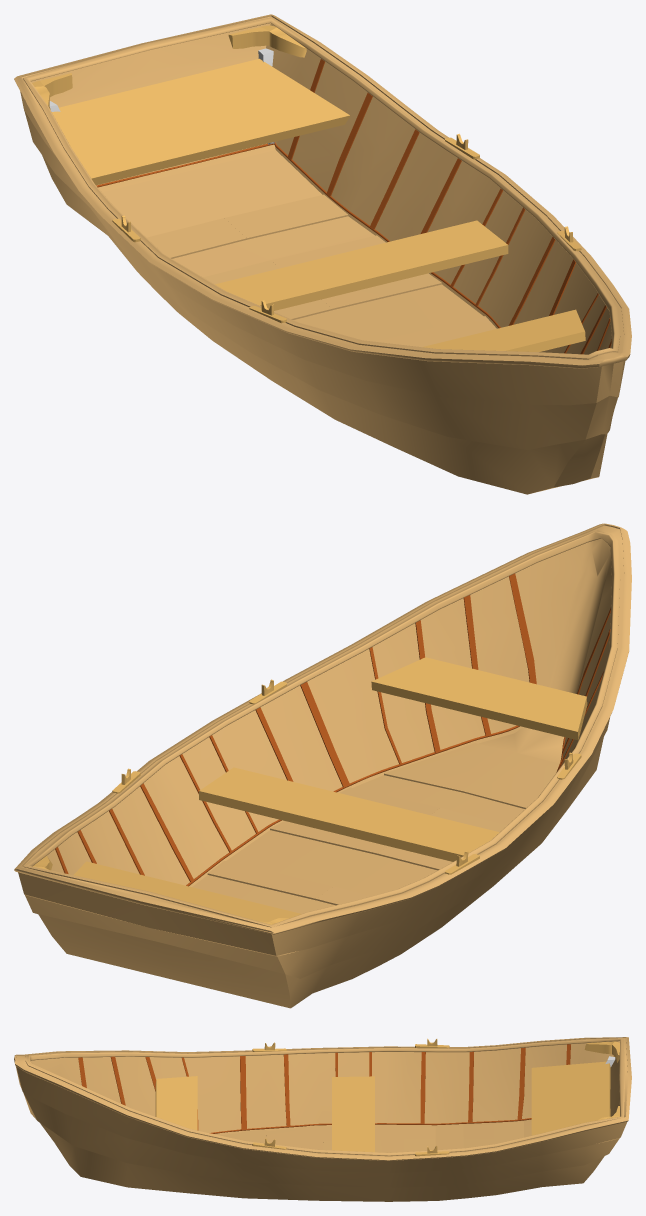
The model's file is boat.glb.
3 views of the same model, one above another, from view 1: azimuth 30°, elevation 25°; view 2: azimuth 150°, elevation 25°; view 3: azimuth 270°, elevation 25° (orthographic). The views are drawn at different scales.
Parts seen in each view (by area): view 1: BaseBarca, PianoFondo, PianoMetà, Object001, PianoPunta, Object002, FiloBase, PortaRemi1; view 2: BaseBarca, PianoMetà, PianoPunta, Object001, PianoFondo, FiloBase; view 3: BaseBarca, PianoFondo, PianoMetà, Object001, PianoPunta, FiloBase, Object002, PortaRemi1, Portaremi2.
Part boxes in pixels (x1=…): BaseBarca: x1=14, y1=14, x2=631, y2=494; PianoFondo: x1=52, y1=58, x2=350, y2=185; PianoMetà: x1=215, y1=220, x2=508, y2=310; Object001: x1=288, y1=59, x2=611, y2=354; PianoPunta: x1=422, y1=309, x2=585, y2=351; Object002: x1=32, y1=25, x2=306, y2=109; FiloBase: x1=96, y1=142, x2=500, y2=328; PortaRemi1: x1=112, y1=133, x2=479, y2=242; BaseBarca: x1=14, y1=523, x2=631, y2=1008; PianoMetà: x1=199, y1=767, x2=499, y2=861; PianoPunta: x1=371, y1=657, x2=587, y2=740; Object001: x1=55, y1=573, x2=610, y2=882; PianoFondo: x1=73, y1=861, x2=301, y2=921; FiloBase: x1=186, y1=725, x2=565, y2=886; BaseBarca: x1=14, y1=1037, x2=631, y2=1201; PianoFondo: x1=531, y1=1061, x2=610, y2=1135; PianoMetà: x1=332, y1=1076, x2=374, y2=1152; Object001: x1=78, y1=1044, x2=570, y2=1130; PianoPunta: x1=155, y1=1076, x2=197, y2=1130; FiloBase: x1=210, y1=1118, x2=531, y2=1133; Object002: x1=584, y1=1041, x2=619, y2=1120; PortaRemi1: x1=415, y1=1038, x2=449, y2=1156; Portaremi2: x1=252, y1=1042, x2=286, y2=1149.
Size of the model in its own units: 2.57 by 1.14 by 5.9.
